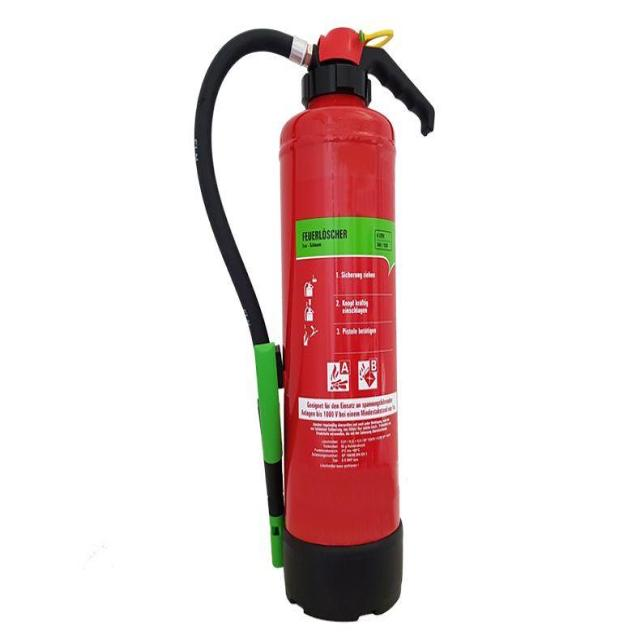fire_extinguisher: (186, 11, 440, 630)
